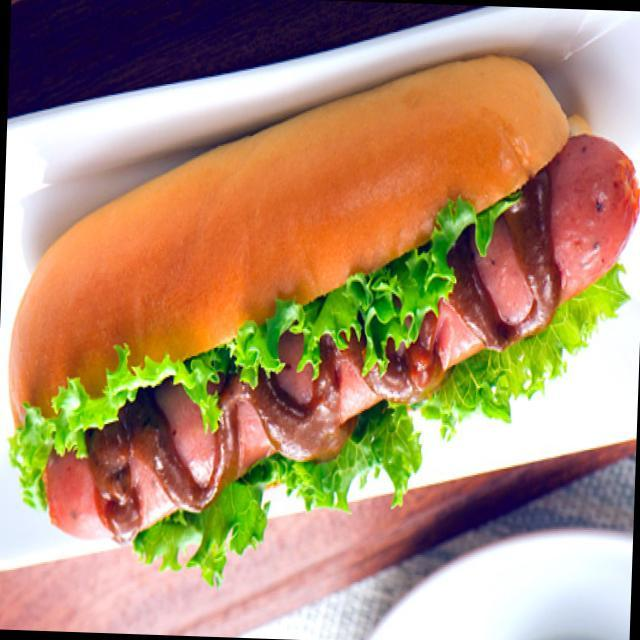Hot Dog: (0, 62, 627, 563)
